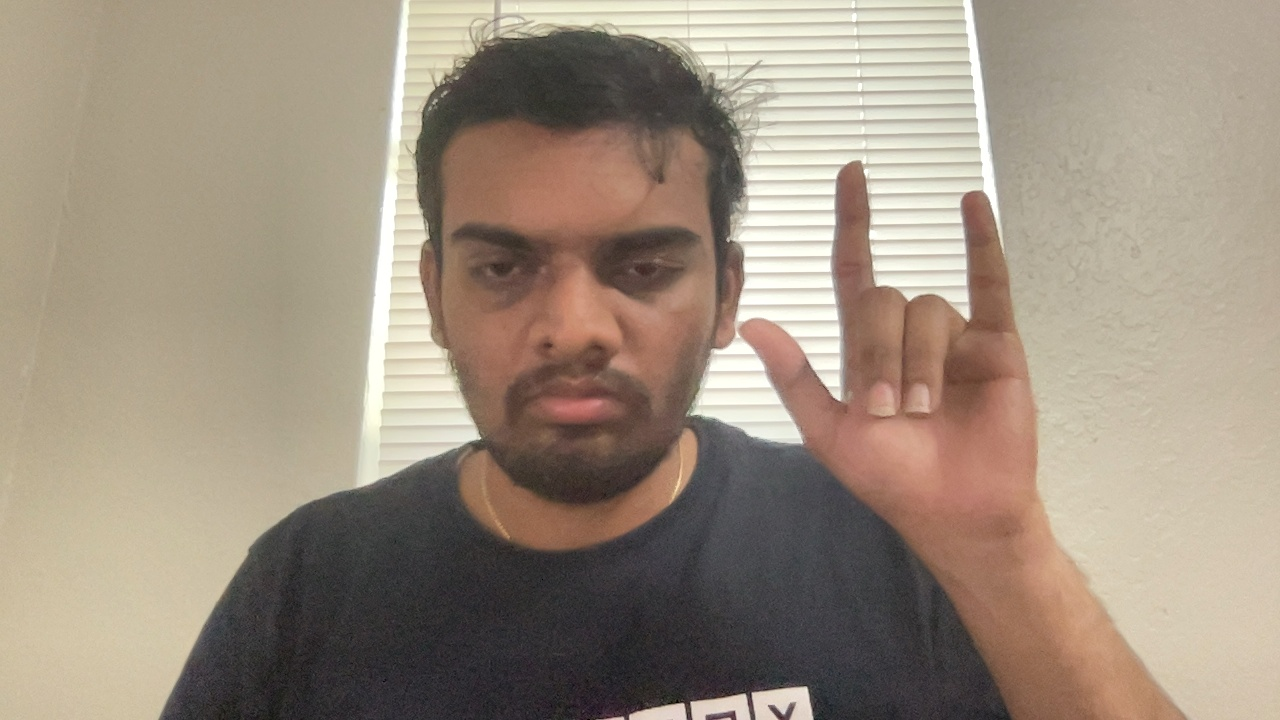i love you: (753, 161, 1048, 561)
